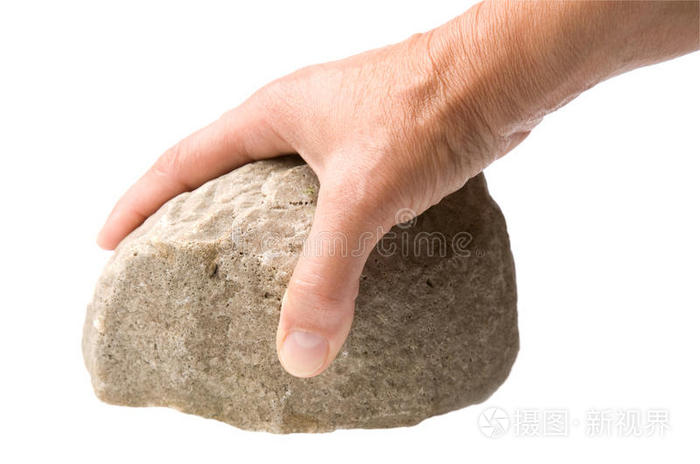no-phone: (76, 5, 528, 437)
